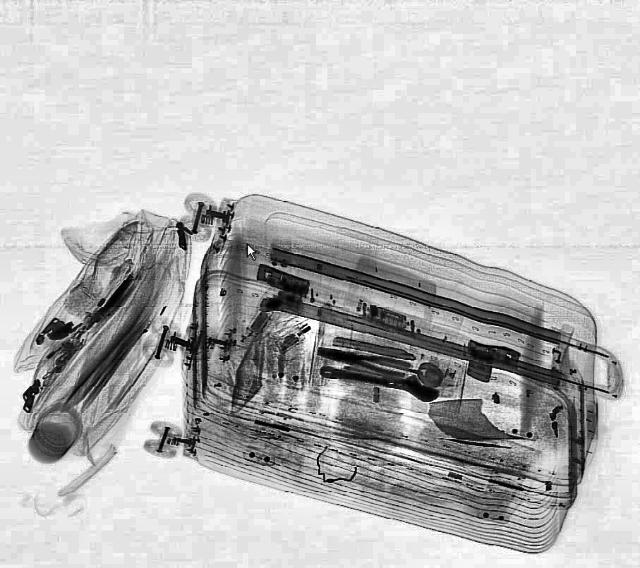Pliers: (314, 340, 410, 378)
Wrench: (315, 357, 441, 403)
